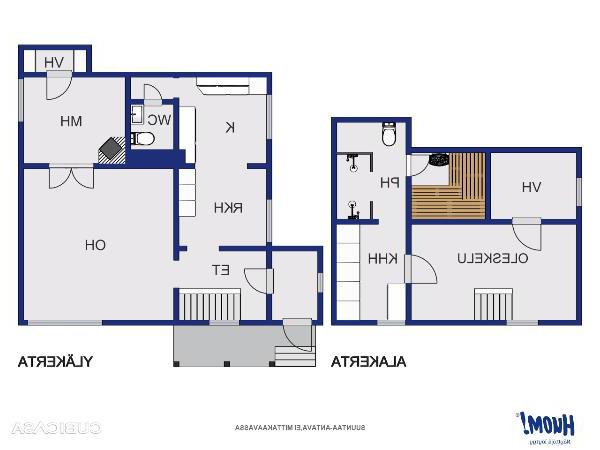bathroom: (335, 117, 406, 220), (130, 102, 173, 150)
door: (400, 252, 441, 287), (278, 316, 314, 354), (510, 215, 544, 254), (242, 265, 278, 298), (42, 68, 76, 100), (402, 151, 432, 179), (46, 160, 73, 190), (71, 161, 97, 190), (140, 80, 166, 108)
perimeter: (18, 45, 323, 325), (330, 116, 582, 324)
stairs: (178, 290, 242, 321), (472, 288, 514, 322), (276, 348, 316, 366)
window: (23, 316, 106, 330), (260, 196, 276, 246), (13, 75, 29, 125), (262, 92, 276, 142), (502, 314, 542, 330), (373, 315, 407, 331), (573, 174, 585, 210), (207, 318, 242, 330), (314, 272, 327, 294)
